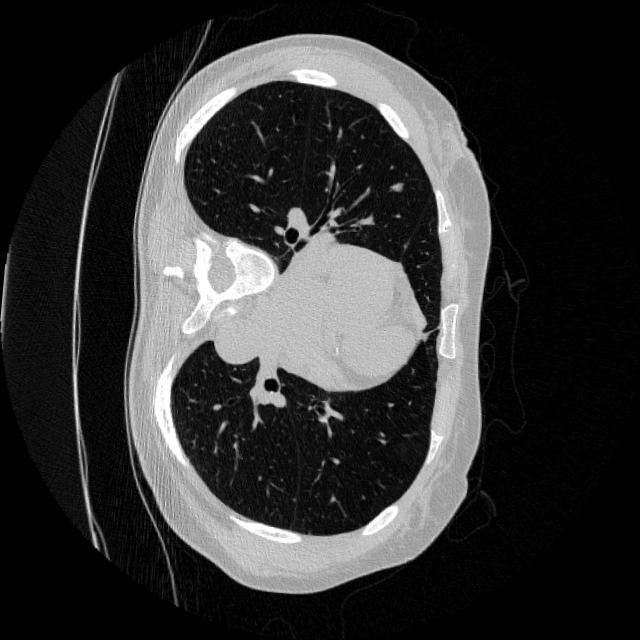nodule: (385, 174, 409, 198)
